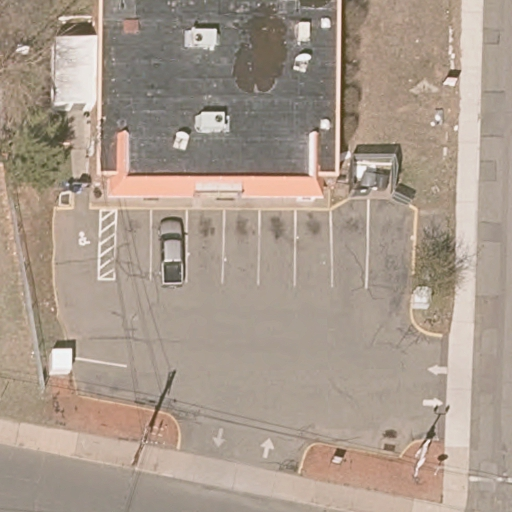DT: (132, 423, 165, 470), (411, 435, 439, 478)
